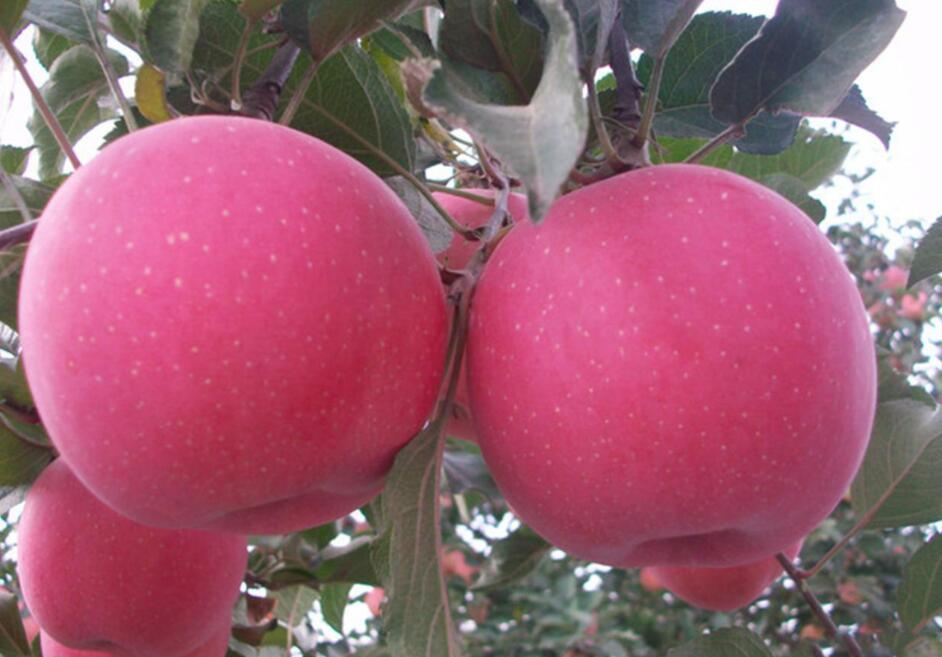apple: (16, 110, 452, 533), (455, 162, 875, 571), (16, 453, 248, 652)
